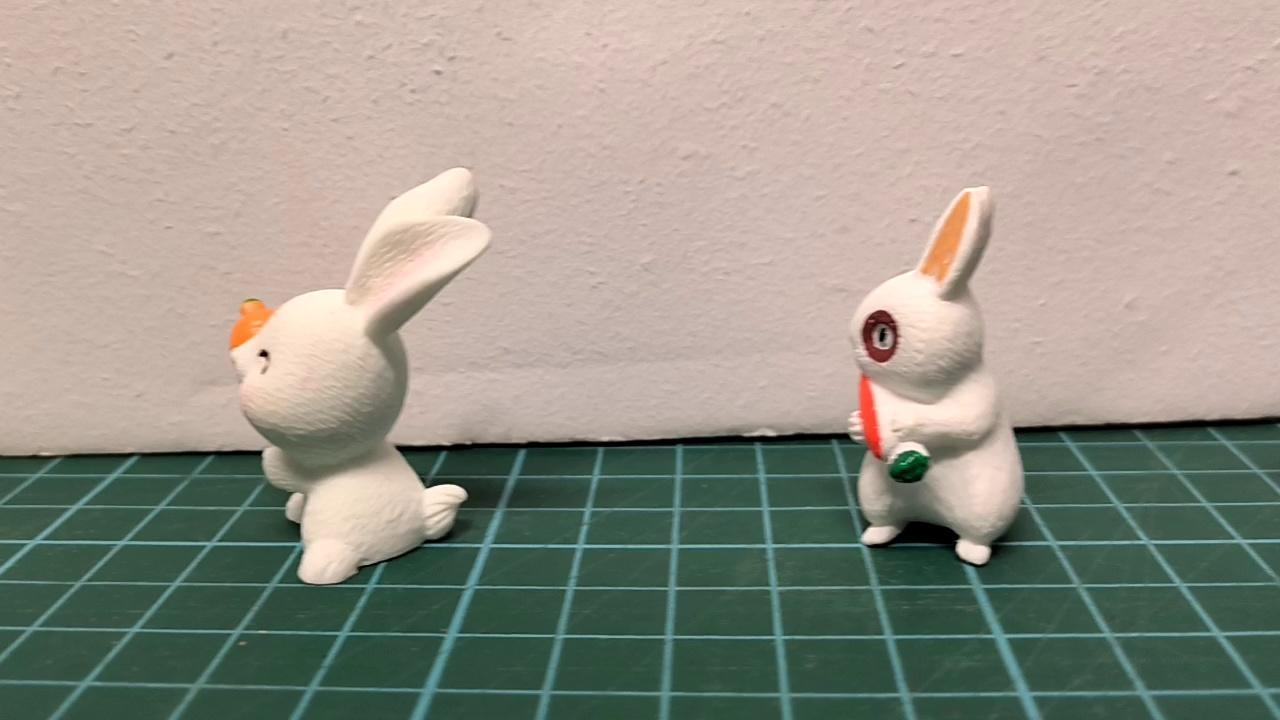pet: (228, 168, 491, 584), (849, 185, 1025, 569)
